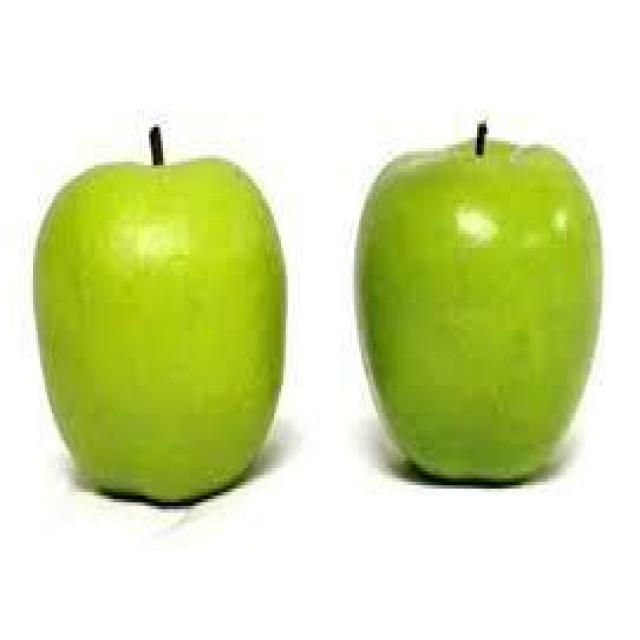maca: (31, 120, 288, 502), (352, 117, 602, 482)
